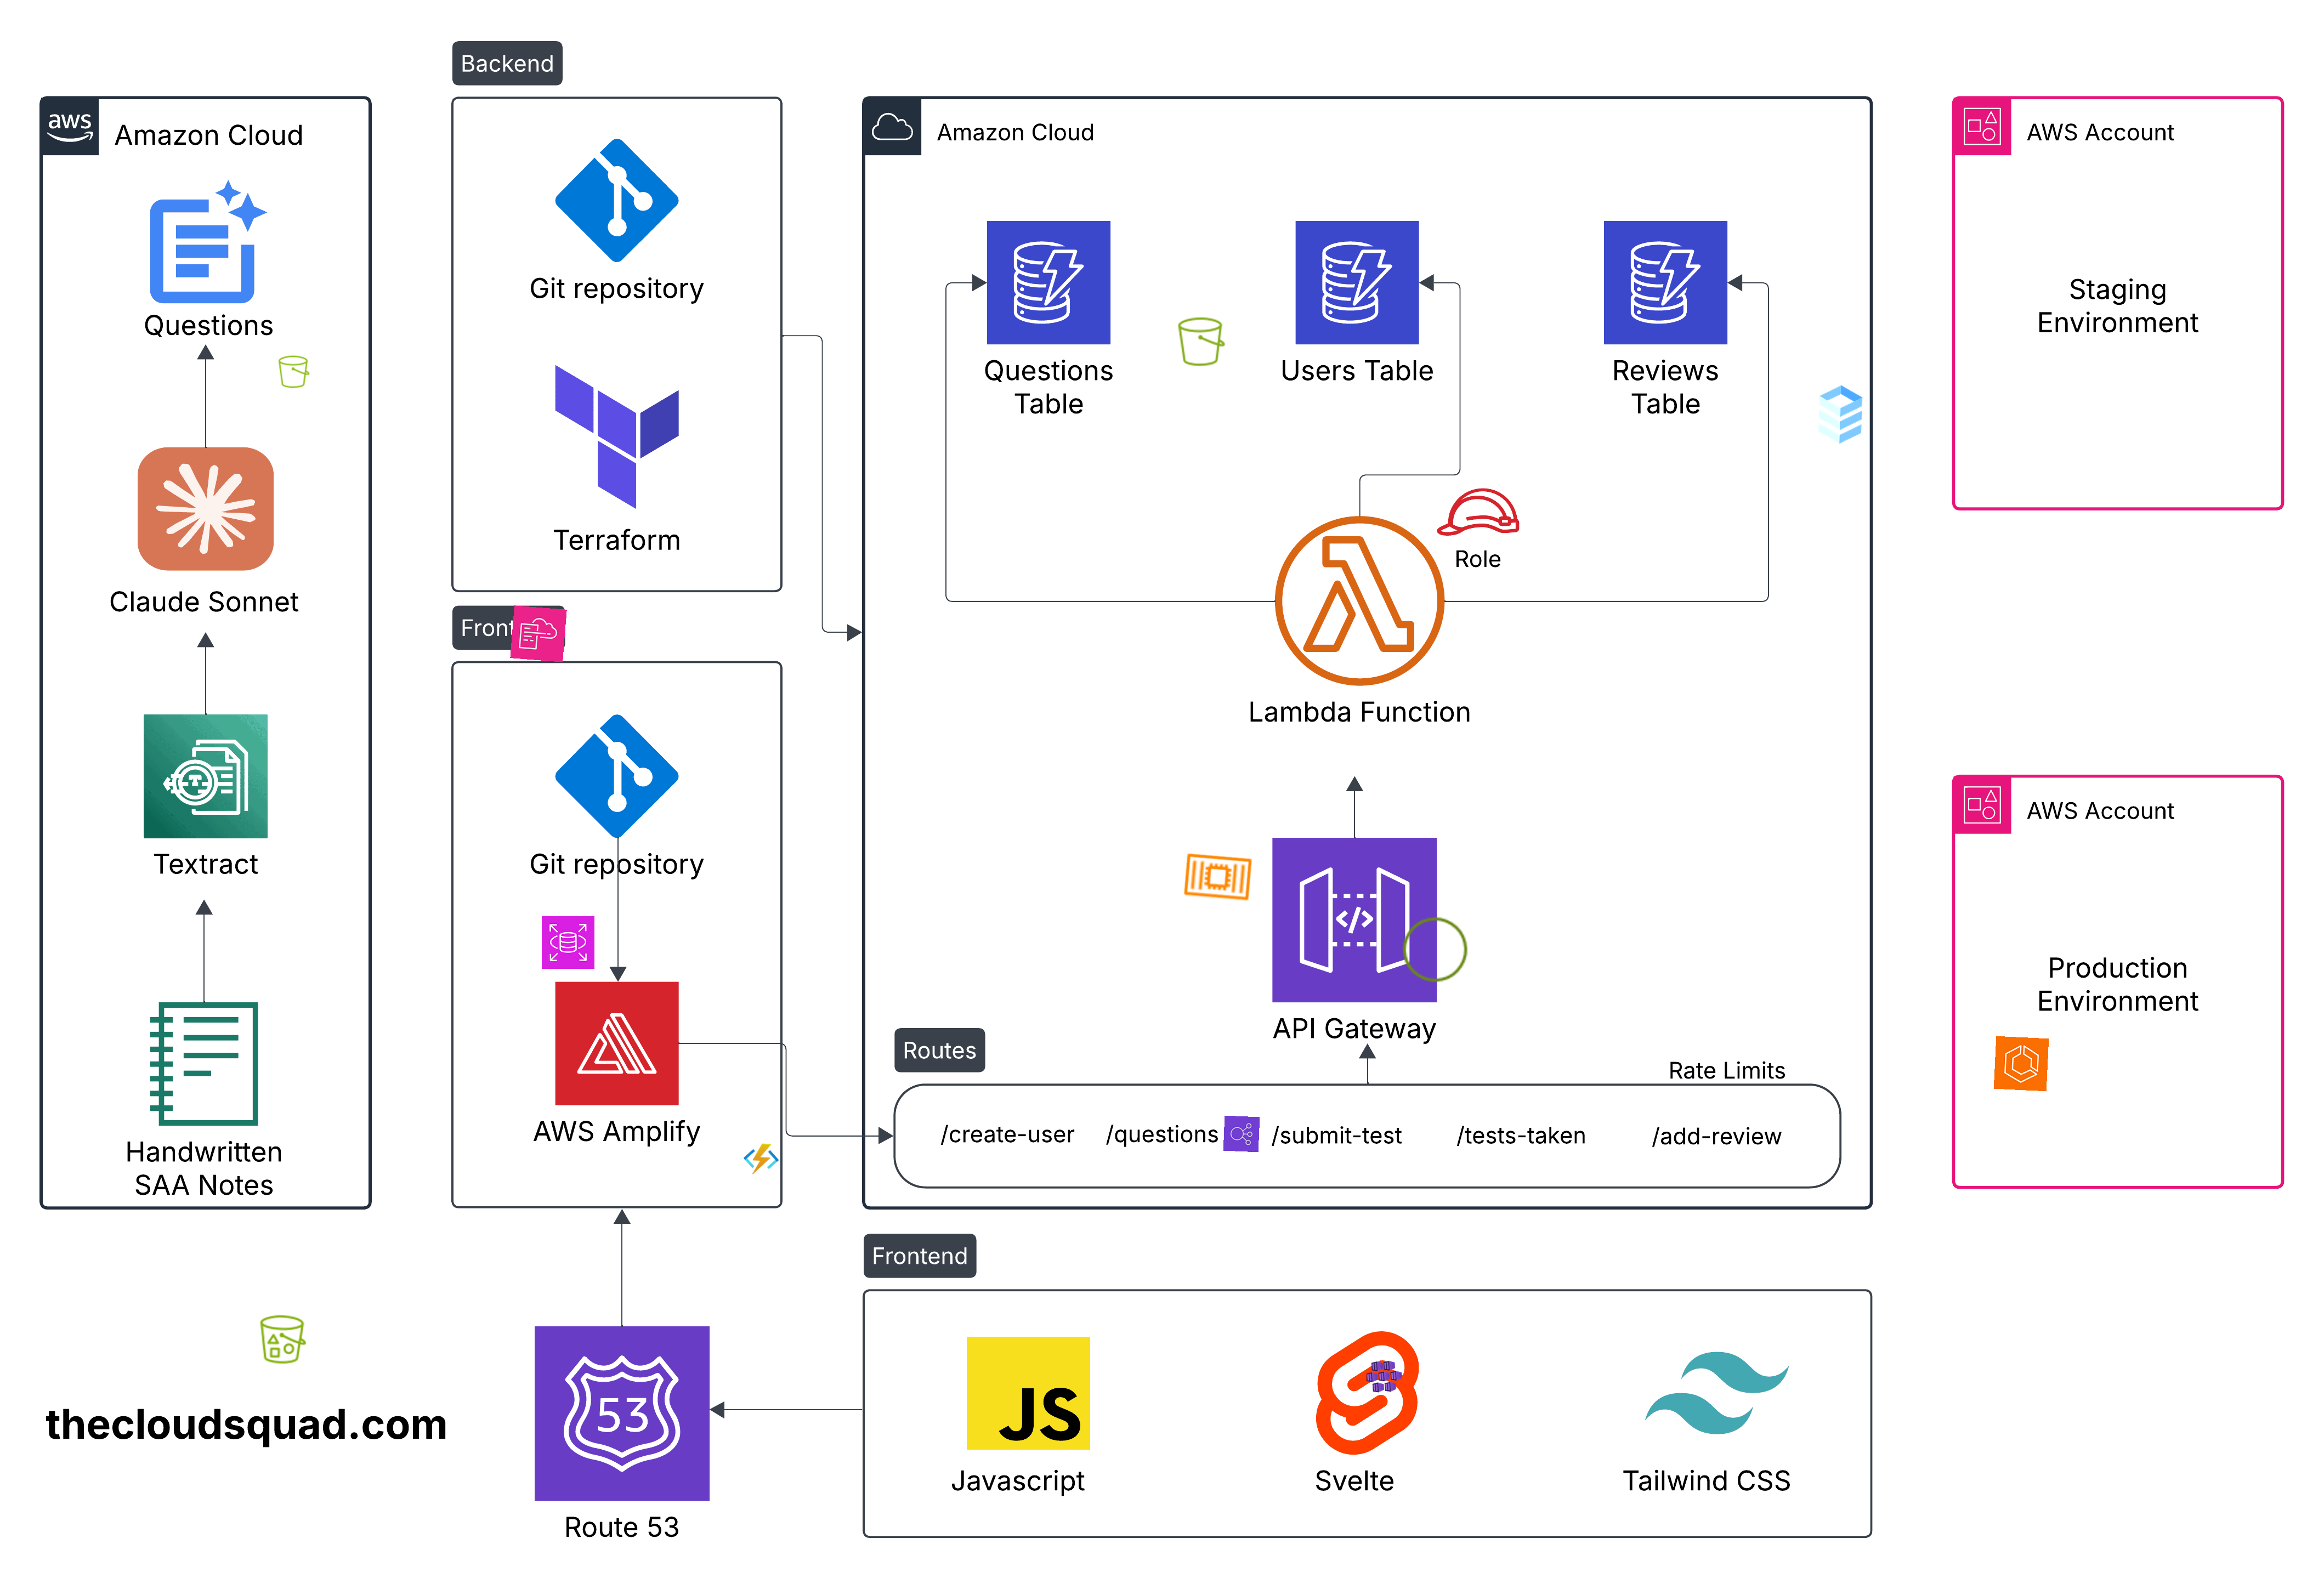aws_amazon_elastic_container_service: (1993, 1036, 2049, 1092)
aws_amazon_rds: (541, 916, 595, 969)
aws_cloudformation: (511, 606, 567, 662)
aws_elastic_container_service_container_2: (1180, 838, 1257, 916)
aws_elastic_load_balancing: (1224, 1115, 1261, 1152)
aws_simple_storage_service_bucket: (276, 354, 312, 389)
aws_simple_storage_service_bucket_with_objects: (255, 1312, 310, 1367)
aws_simple_storage_service_object: (1400, 914, 1472, 986)
aws_simple_storage_service_s3_standard: (1174, 315, 1229, 368)
azure_function_apps: (743, 1141, 780, 1178)
azure_kubernetes_services: (1366, 1358, 1403, 1395)
gcp_cloud_sql: (1803, 379, 1877, 451)
